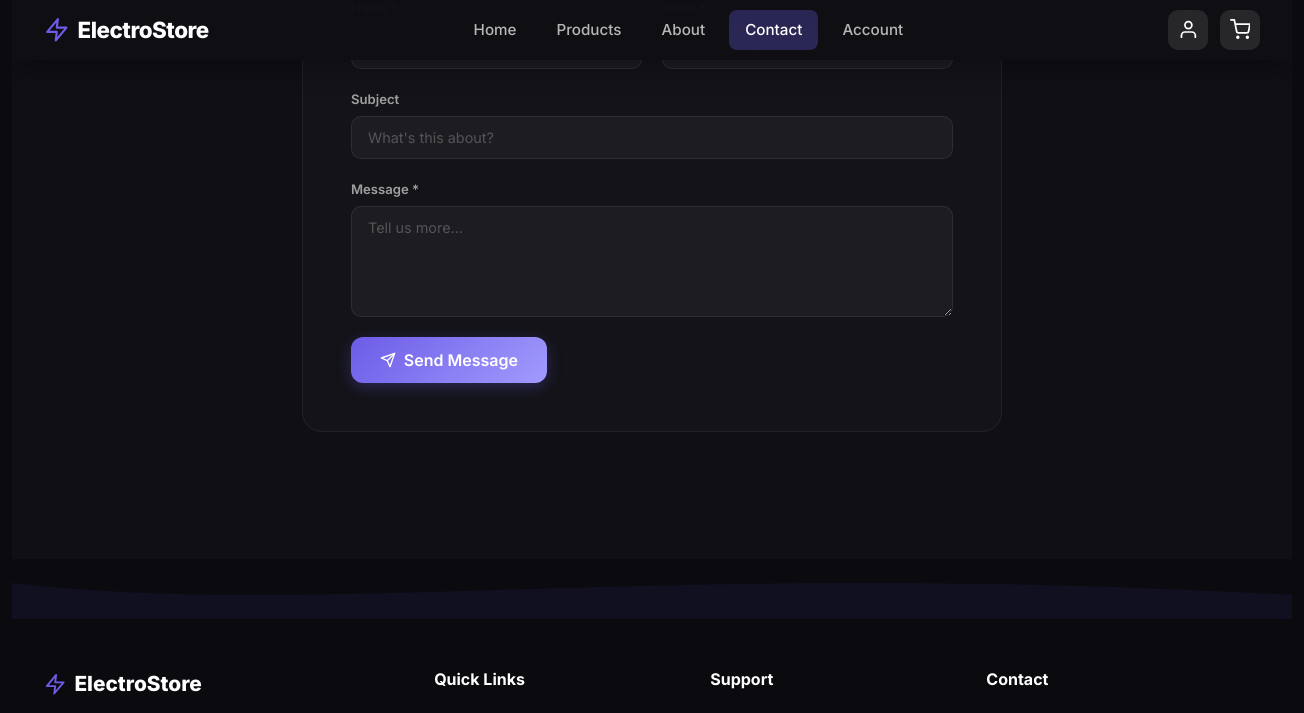
Test: Contact Page › should show validation errors for empty form
(page scrolled)
Click the submit button. click: click(449, 361)
box: [351,338,547,384]
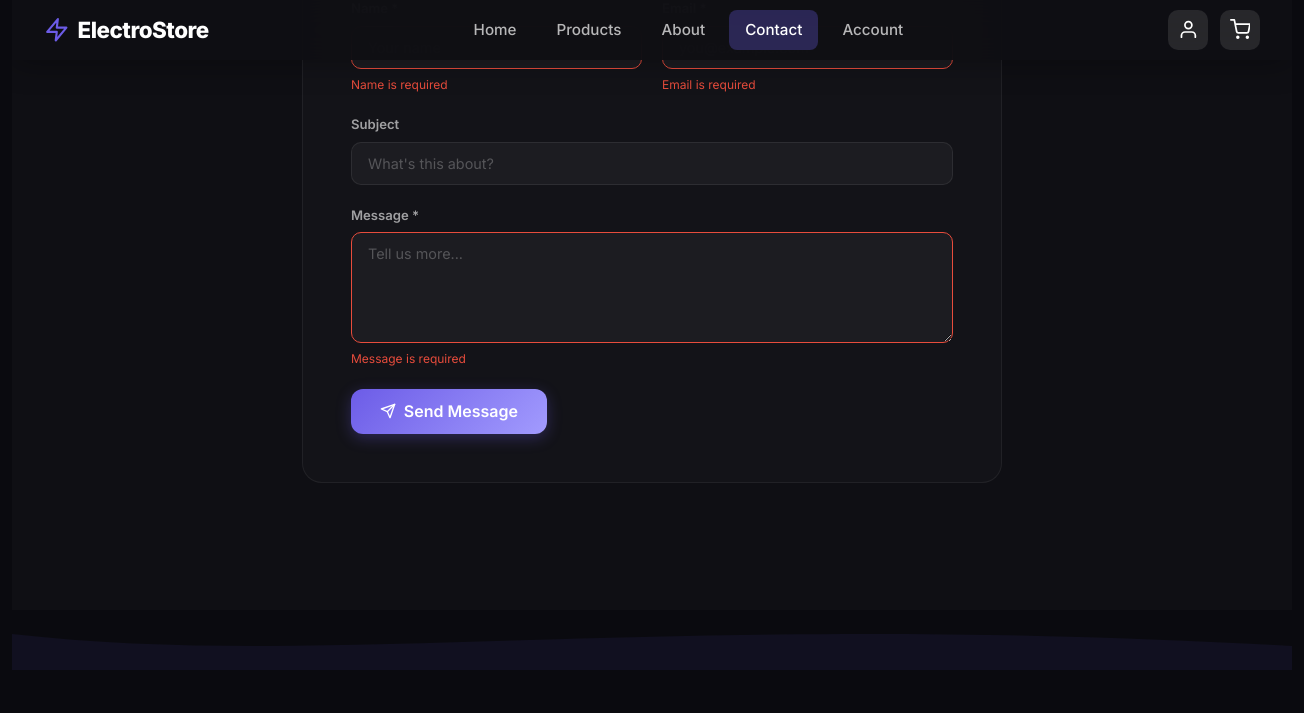
Expected: the number of elements with class "form-error" is at least 1
